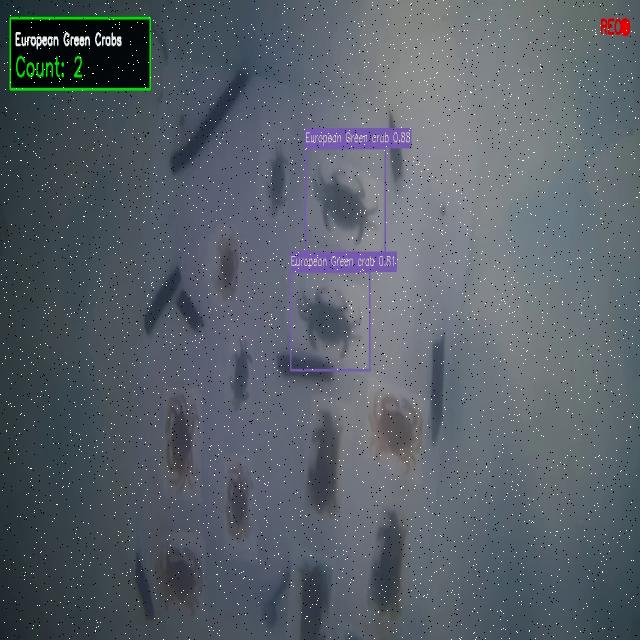European_Green_Crab: (288, 278, 366, 362), (309, 163, 384, 249), (255, 133, 294, 225), (226, 338, 255, 415)
